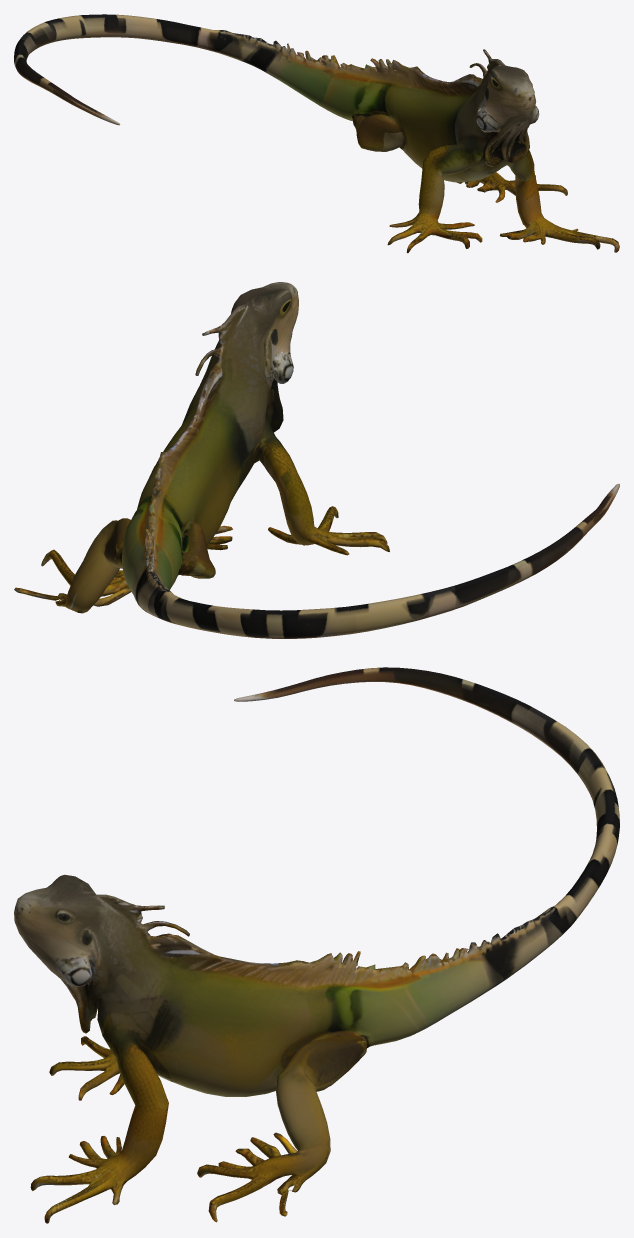
File: tripo_convert_7e139703-e2dc-49d9-b4f1-5093681d1302.obj
The picture shows the model from 3 angles, top to bottom: view 1: azimuth 30°, elevation 25°; view 2: azimuth 150°, elevation 25°; view 3: azimuth 270°, elevation 25°; orthographic projection. The views are drawn at different scales.
Parts seen in each view (by area): view 1: tripo_node_7e139703-e2dc-49d9-b4f1-5093681d1302; view 2: tripo_node_7e139703-e2dc-49d9-b4f1-5093681d1302; view 3: tripo_node_7e139703-e2dc-49d9-b4f1-5093681d1302.
Boxes of the visible parts, x1,y1,x2,y2 form: tripo_node_7e139703-e2dc-49d9-b4f1-5093681d1302: [14, 14, 619, 253]; tripo_node_7e139703-e2dc-49d9-b4f1-5093681d1302: [14, 282, 619, 638]; tripo_node_7e139703-e2dc-49d9-b4f1-5093681d1302: [14, 667, 619, 1223].
Bounding box in the file's own units: 0.9994 × 0.4168 × 0.8335.
1 material, 1 textured.
